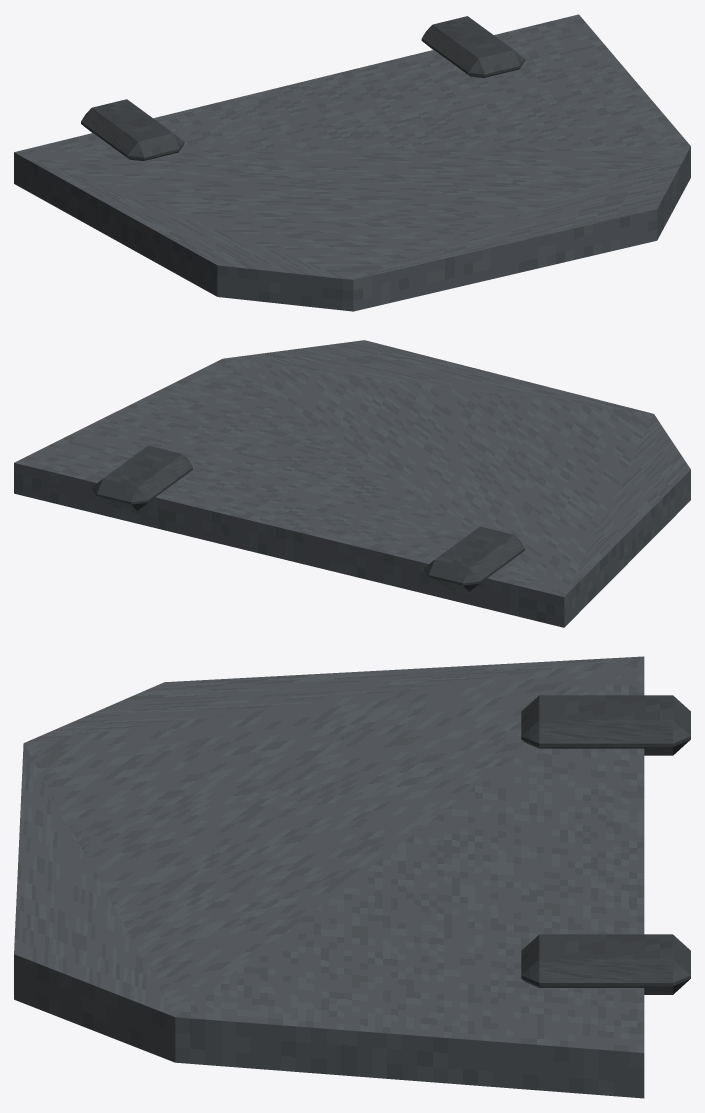
The model's file is kevlar_nape_protector.glb.
3 renders of one model, top to bottom at view 1: azimuth 30°, elevation 25°; view 2: azimuth 150°, elevation 25°; view 3: azimuth 270°, elevation 25°, orthographic. The views are drawn at different scales.
Parts seen in each view (by area): view 1: block_curved protective guard, block_nape helmet attachment (×2); view 2: block_curved protective guard, block_nape helmet attachment (×2); view 3: block_curved protective guard, block_nape helmet attachment (×2).
Part boxes in pixels (x1,y1,x2,y2): block_curved protective guard: (14,14,690,311); block_nape helmet attachment (×2): (81,16,524,160); block_curved protective guard: (14,340,690,627); block_nape helmet attachment (×2): (92,445,524,591); block_curved protective guard: (14,656,644,1098); block_nape helmet attachment (×2): (521,695,690,994).
Bounding box in the file's own units: 0.2159 × 0.0173 × 0.1557.
Materials: 1 (1 with a texture image).
